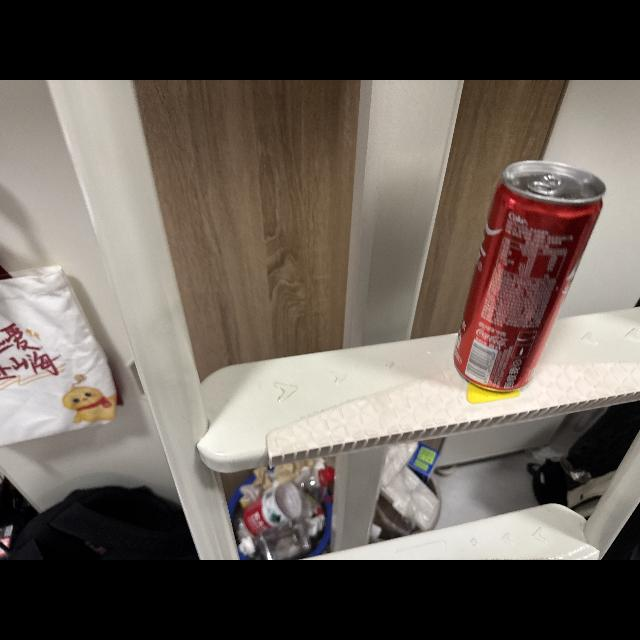Cola: (443, 150, 612, 394)
